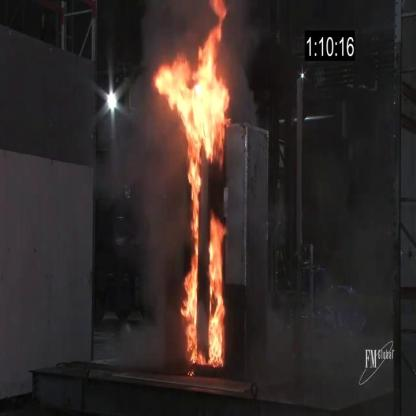fire: (148, 4, 233, 382)
